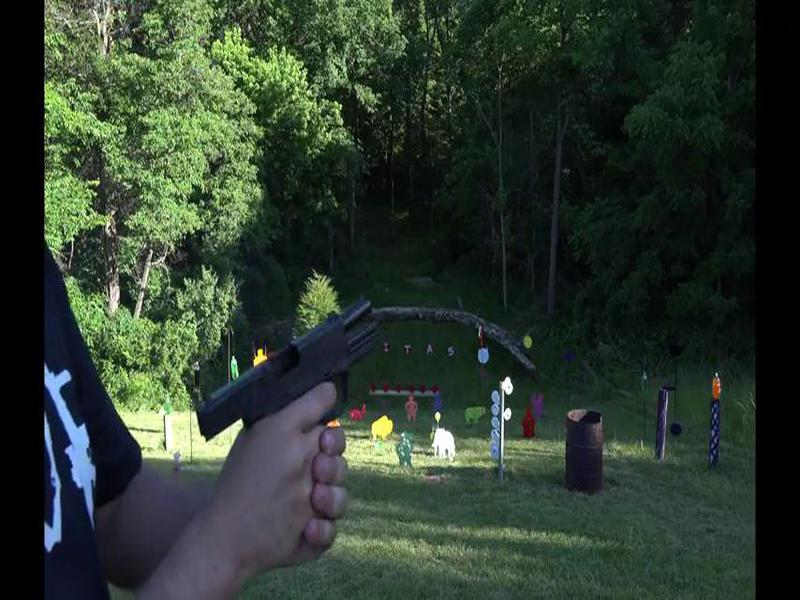Pistola: (188, 294, 389, 492)
